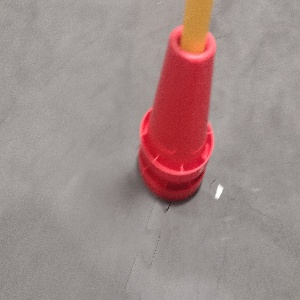Red_2: (137, 23, 216, 201)
